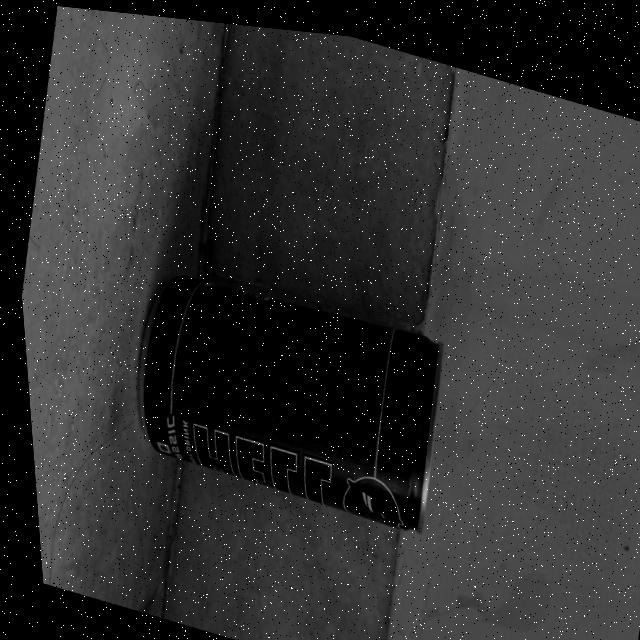Hell Classic: (95, 230, 467, 551)
